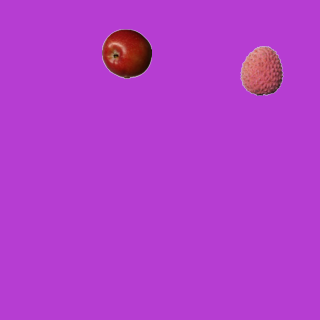Apple Braeburn: (101, 28, 151, 78)
Lychee: (236, 45, 286, 95)
